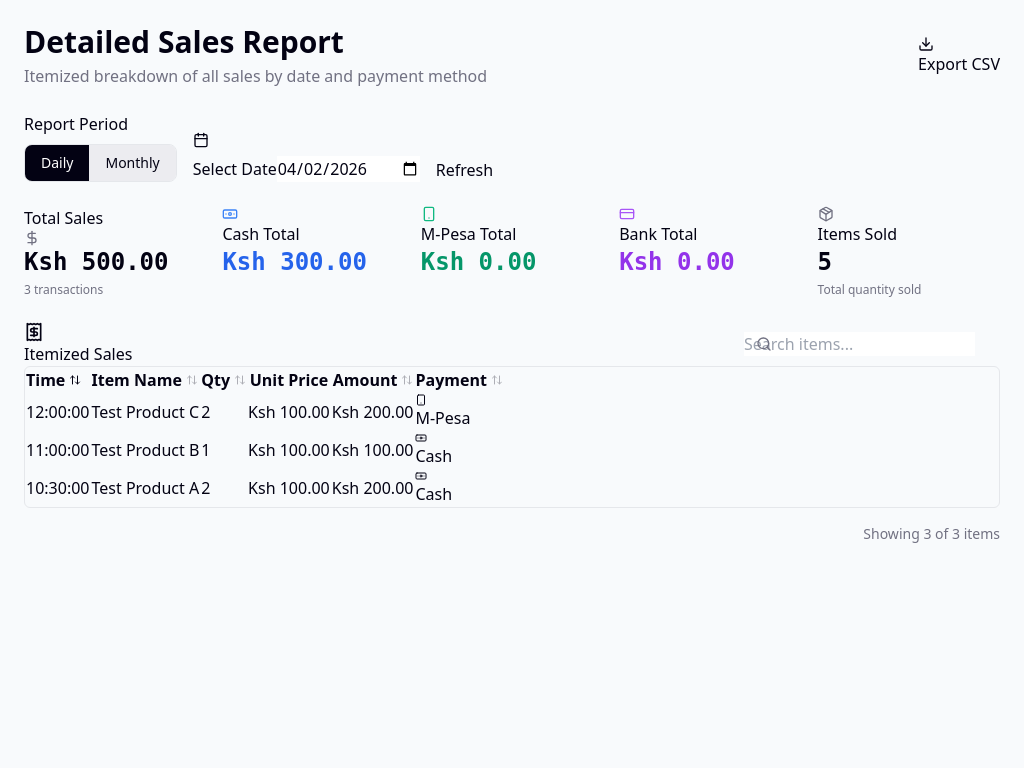
Scenario: DetailedReportsScreen - Search Functionality › filters items by payment method
Check: the text "Test Product A" is shown, box left=90, top=469, right=200, bottom=507
Type "MPESA" into the field with placeholder "Search items..." at (860, 344), box left=744, top=332, right=975, bottom=356
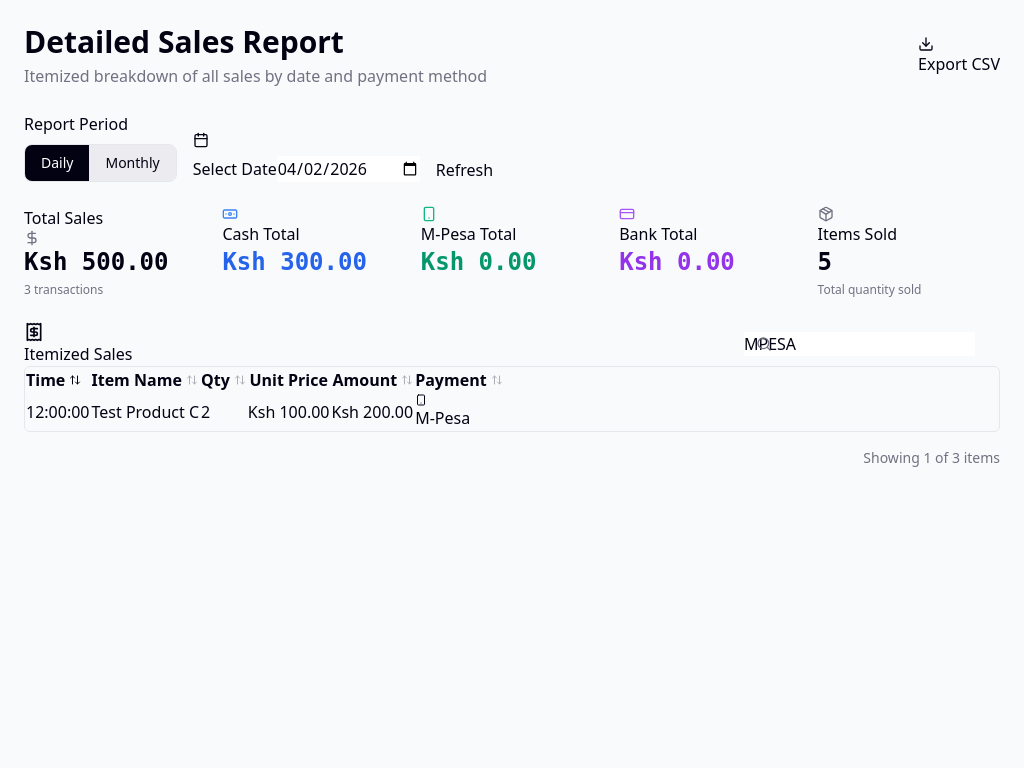
Check: the text "Test Product C" is shown, box left=90, top=393, right=200, bottom=431
Check: the text "Test Product A" is gone
